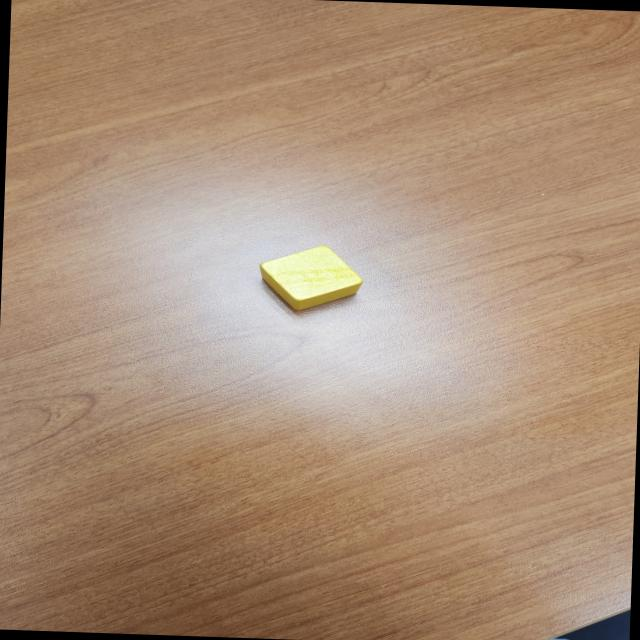yellow: (256, 242, 364, 314)
